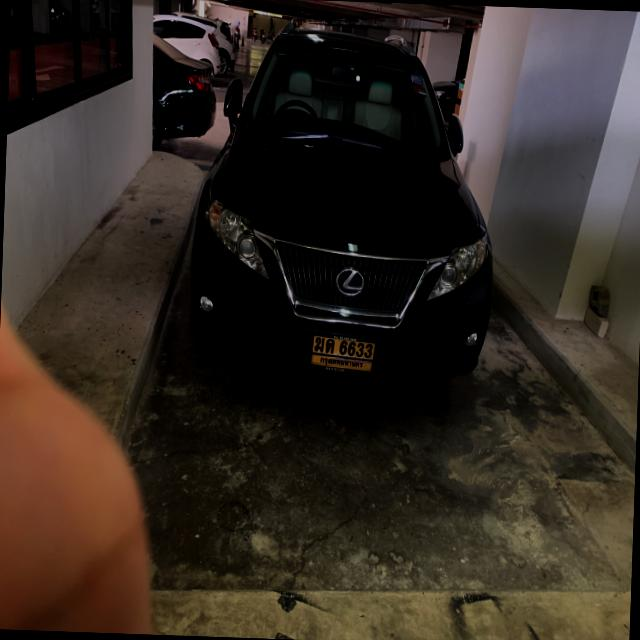license_plate: (308, 327, 378, 378)
